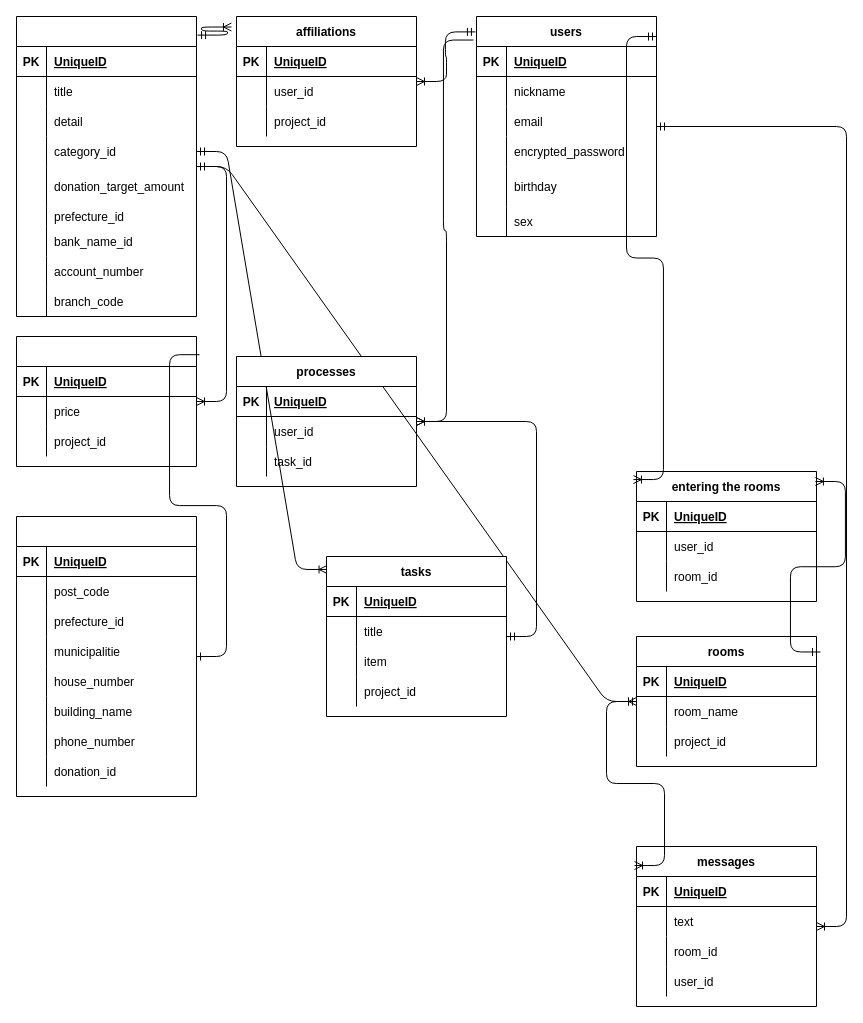
Some shapes in this 863 by 1023 pixel diagram are drawn without their labels. Each missing label, with the box of its shape:
addresses: (16, 516, 196, 796)
donations: (16, 336, 196, 466)
projects: (16, 16, 196, 316)
